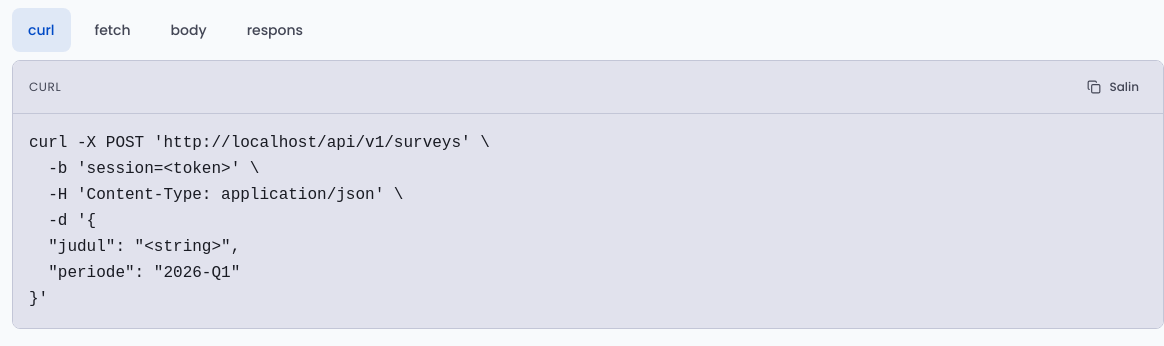
TabSnippet — istilah request body › judul bloknya "Request body", dan tanpa em dash
Click the button "body" at (189, 30), box [154, 8, 223, 52]
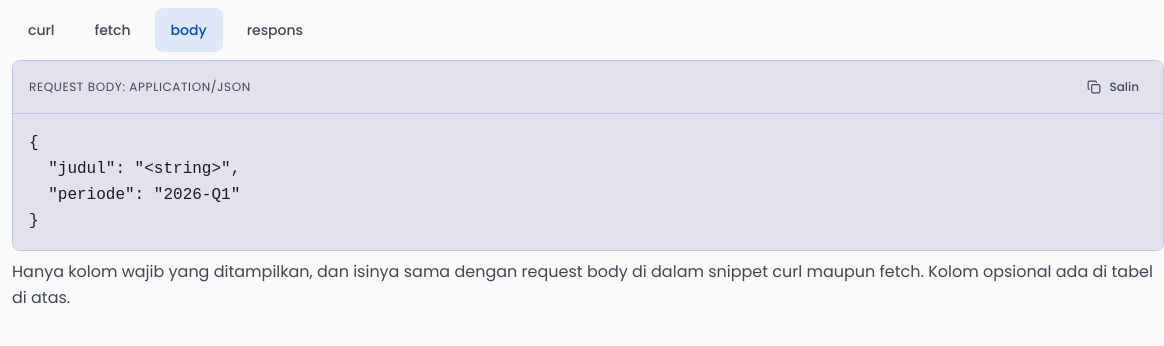
Check: the element with test id "kepala-badan" shows "Request body", box [29, 78, 251, 95]
